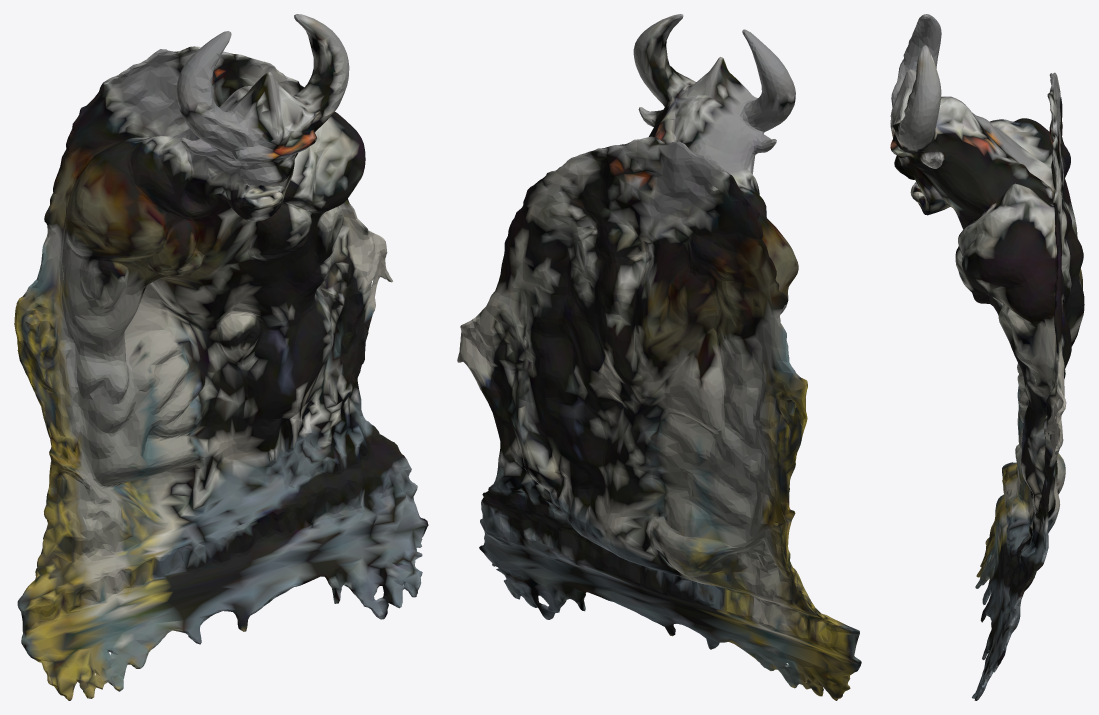
File: magicArmor.glb
3 views of the same model, side by side, from view 1: azimuth 30°, elevation 25°; view 2: azimuth 150°, elevation 25°; view 3: azimuth 270°, elevation 25° (orthographic). The views are drawn at different scales.
Parts seen in each view (by area): view 1: world; view 2: world; view 3: world.
Boxes of the visible parts, box(x1,y1,x2,y2) form: world: box(14, 14, 428, 700); world: box(457, 14, 861, 700); world: box(890, 14, 1084, 700).
Size of the model in its own units: 0.6433 by 1 by 0.2875.
